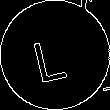L_N: (34, 27, 76, 83)
